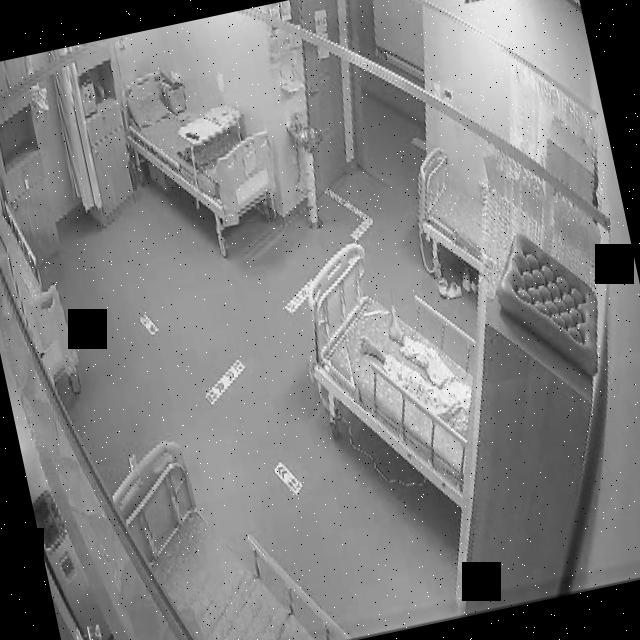bed: (288, 225, 499, 528), (101, 414, 350, 640), (110, 51, 286, 245), (406, 141, 495, 282)
lie: (352, 286, 480, 452)
patient: (352, 290, 479, 451)
